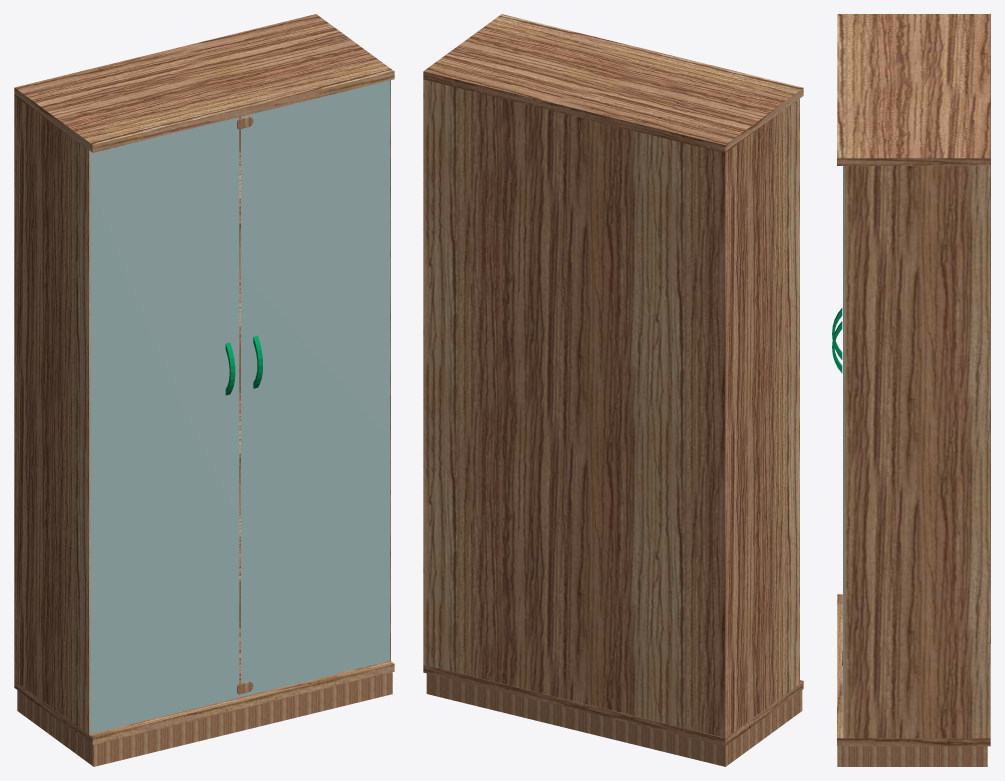
Rendered from baseline_5OH_45x100_wooden_shelves_satinato_finala.fbx.
3 renders of one model, left to right at view 1: azimuth 30°, elevation 25°; view 2: azimuth 150°, elevation 25°; view 3: azimuth 270°, elevation 25°, orthographic. The views are drawn at different scales.
Visible parts, largest first — view 1: szklo_mesh (×2), drewno_mesh, metal_mesh; view 2: drewno_mesh, metal_mesh; view 3: drewno_mesh, metal_mesh, szklo_mesh.
Boxes of the visible parts, bbox=[...] form: szklo_mesh (×2): bbox=[90, 80, 390, 733]; drewno_mesh: bbox=[14, 14, 394, 744]; metal_mesh: bbox=[17, 672, 392, 766]; drewno_mesh: bbox=[423, 14, 803, 746]; metal_mesh: bbox=[426, 673, 802, 766]; drewno_mesh: bbox=[837, 14, 990, 746]; metal_mesh: bbox=[837, 746, 987, 766]; szklo_mesh: bbox=[843, 166, 844, 736].
Bounding box in the file's own units: 254 × 501 × 118.
